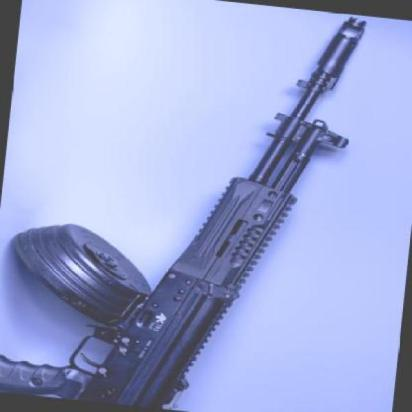Gun: (0, 0, 393, 412)
